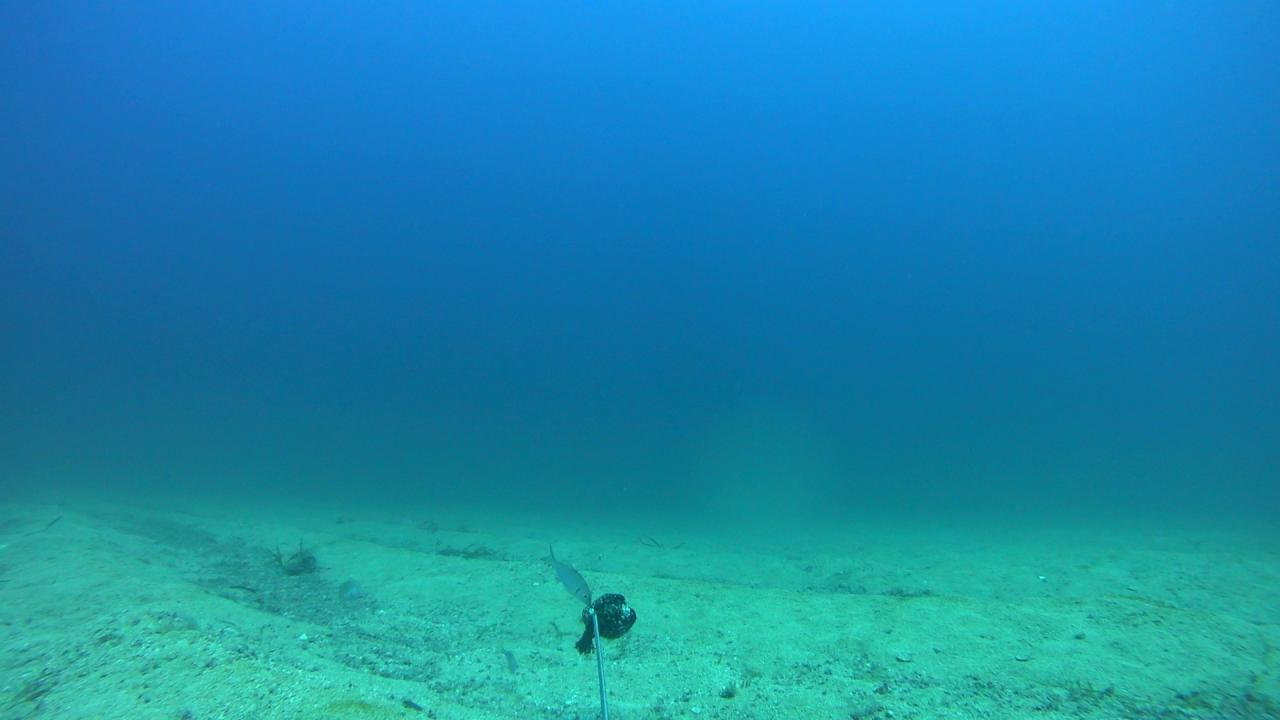pagellus: (540, 545, 591, 604), (495, 636, 519, 678)
